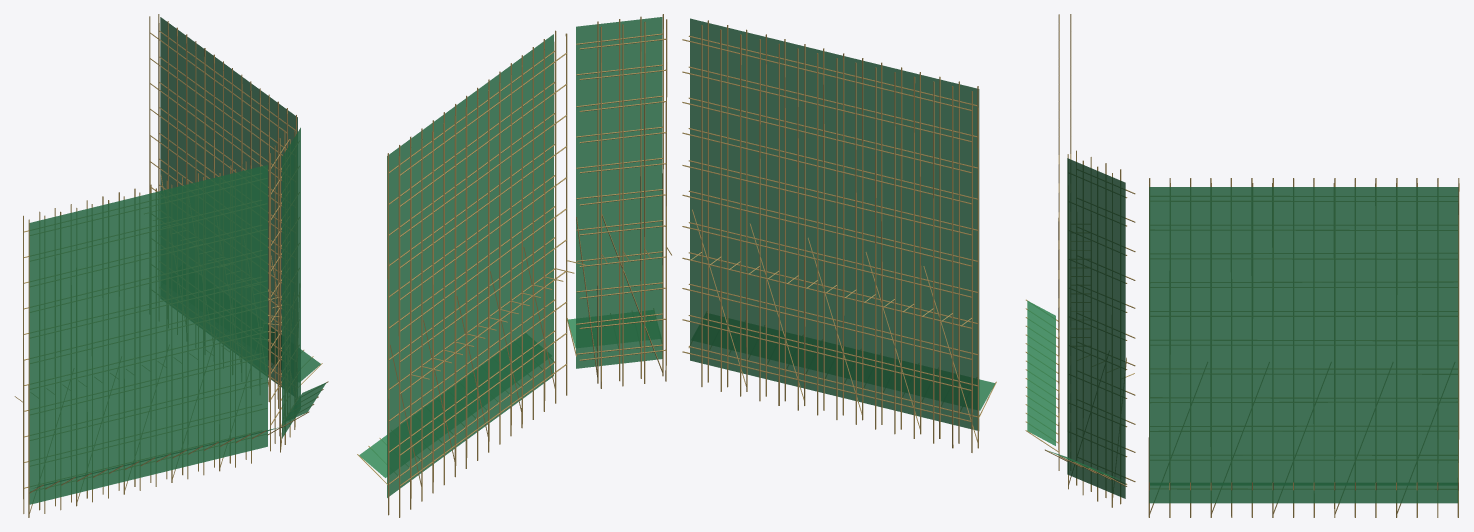
Rendered from hk-pastel-corner-scaffold.glb.
The picture shows the model from 3 angles, left to right: view 1: azimuth 30°, elevation 25°; view 2: azimuth 150°, elevation 25°; view 3: azimuth 270°, elevation 25°; orthographic projection. The views are drawn at different scales.
Visible parts, largest first — view 1: Scaffold_net, Scaffold_bamboo; view 2: Scaffold_net, Scaffold_bamboo; view 3: Scaffold_net, Scaffold_bamboo.
Part boxes in pixels (x1=…): Scaffold_net: x1=29, y1=17, x2=326, y2=504; Scaffold_bamboo: x1=14, y1=14, x2=328, y2=517; Scaffold_net: x1=359, y1=17, x2=994, y2=497; Scaffold_bamboo: x1=357, y1=14, x2=996, y2=517; Scaffold_net: x1=1027, y1=158, x2=1458, y2=503; Scaffold_bamboo: x1=1025, y1=14, x2=1459, y2=517.
Bounding box in the file's own units: 25.98 × 22.1 × 25.98.
